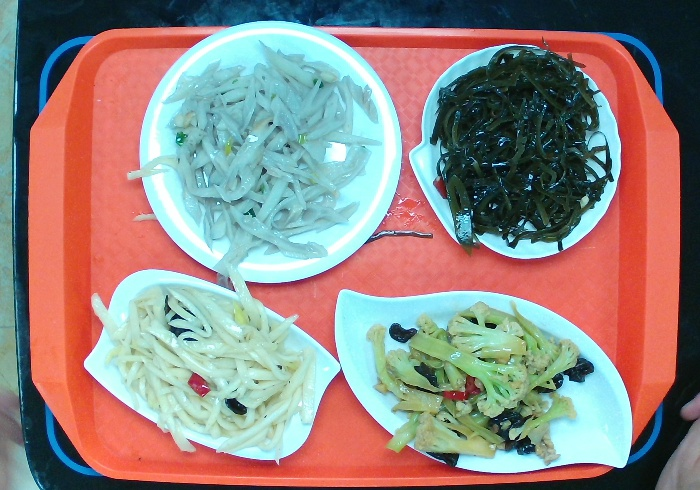RJxy-Bei_Ke_Wan: (409, 42, 623, 262)
RJxy-Jian_Jiao_Fang_Die: (78, 270, 337, 464)
RJxy-Jian_Jiao_Pan: (333, 283, 636, 475)
RJxy-Yuan_Pan: (134, 18, 402, 286)
